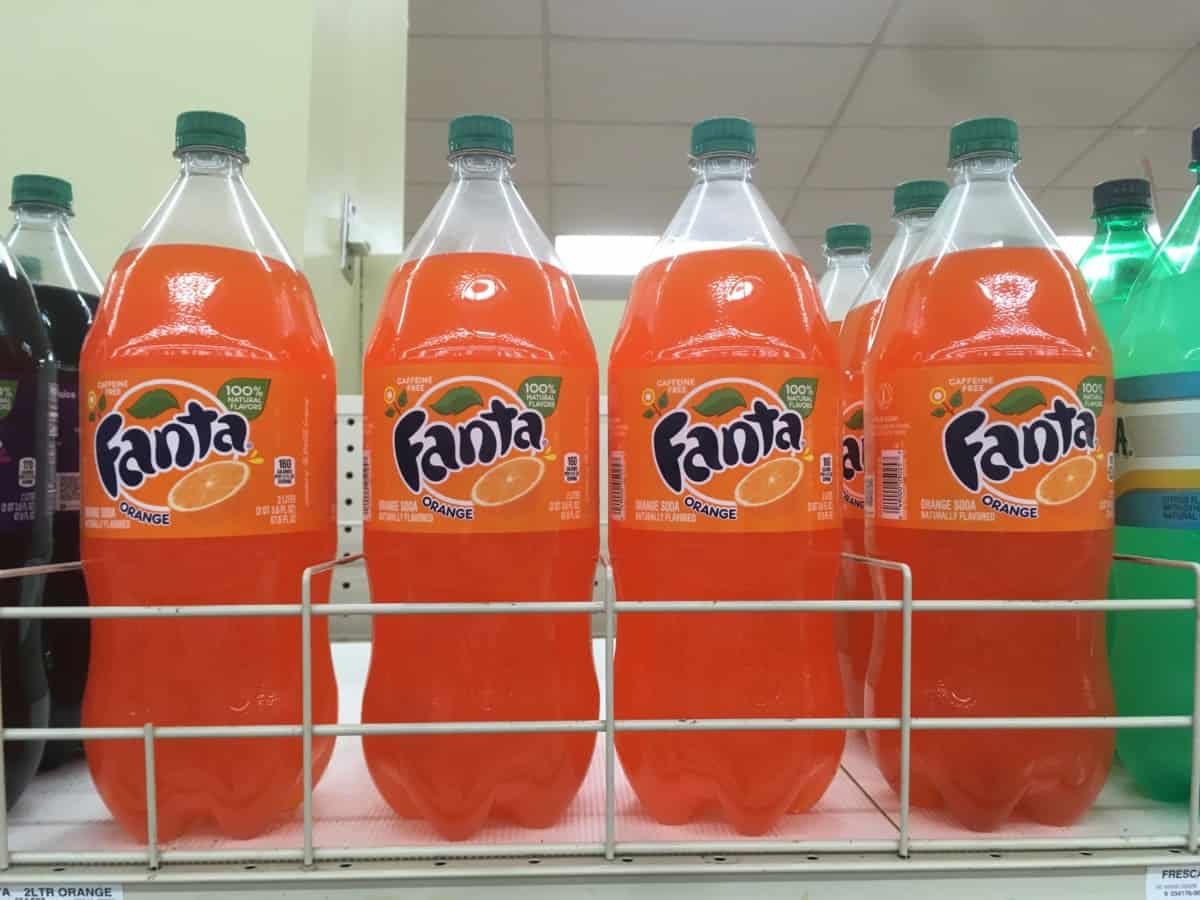Fanta: (85, 93, 326, 838), (346, 97, 587, 842), (879, 87, 1120, 832), (610, 87, 851, 831)
